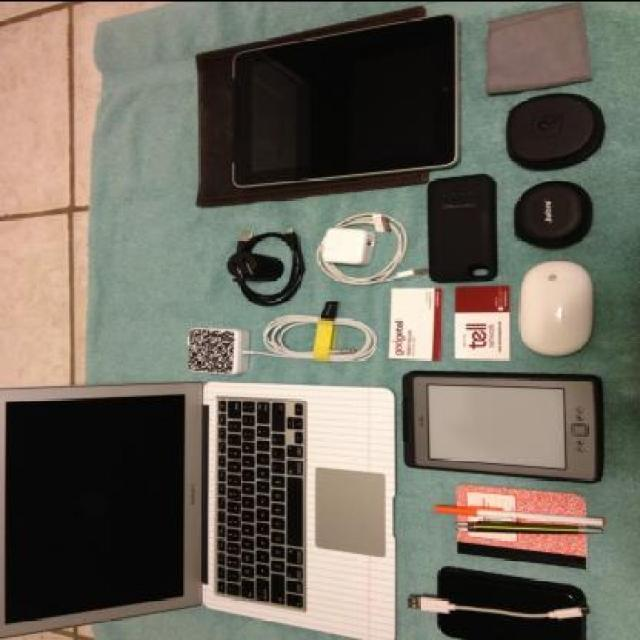phone: (404, 367, 604, 483), (439, 566, 587, 640), (426, 172, 498, 283)
